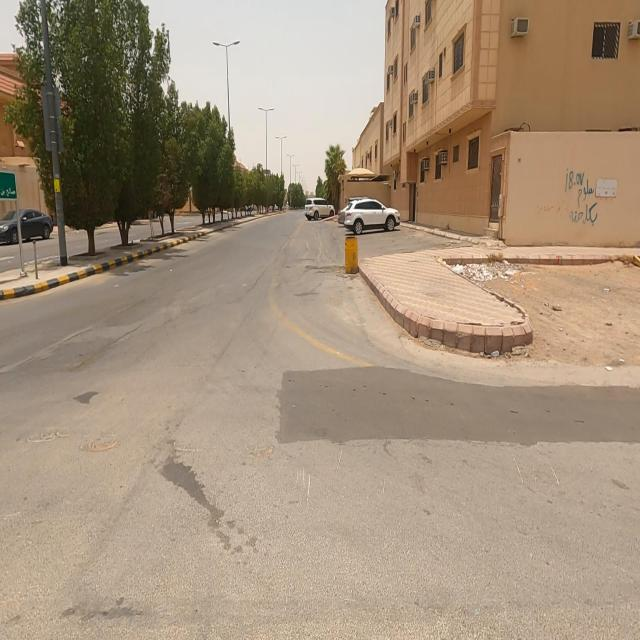Graffiti: (564, 167, 599, 230), (537, 204, 562, 215)
